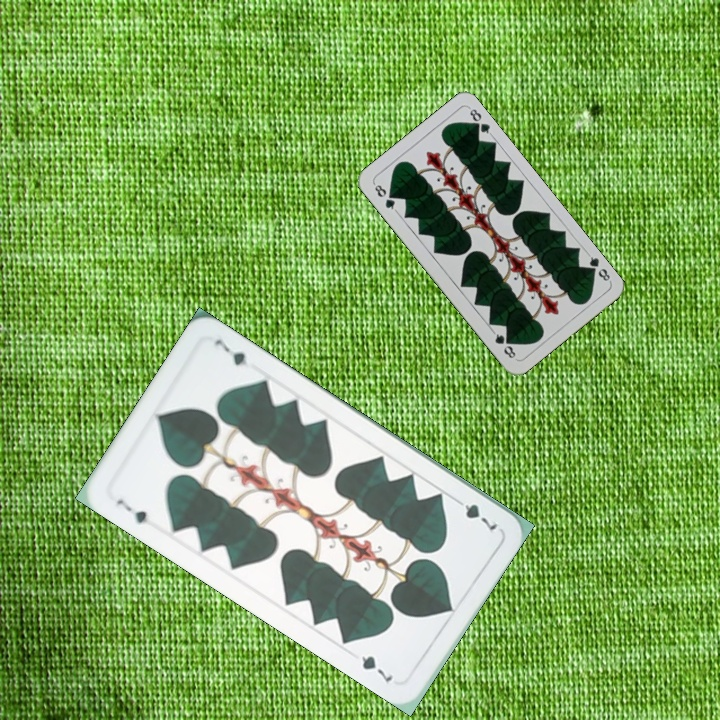G7: (450, 495, 501, 534), (112, 495, 150, 527)
G8: (582, 250, 613, 285), (370, 179, 399, 214)
